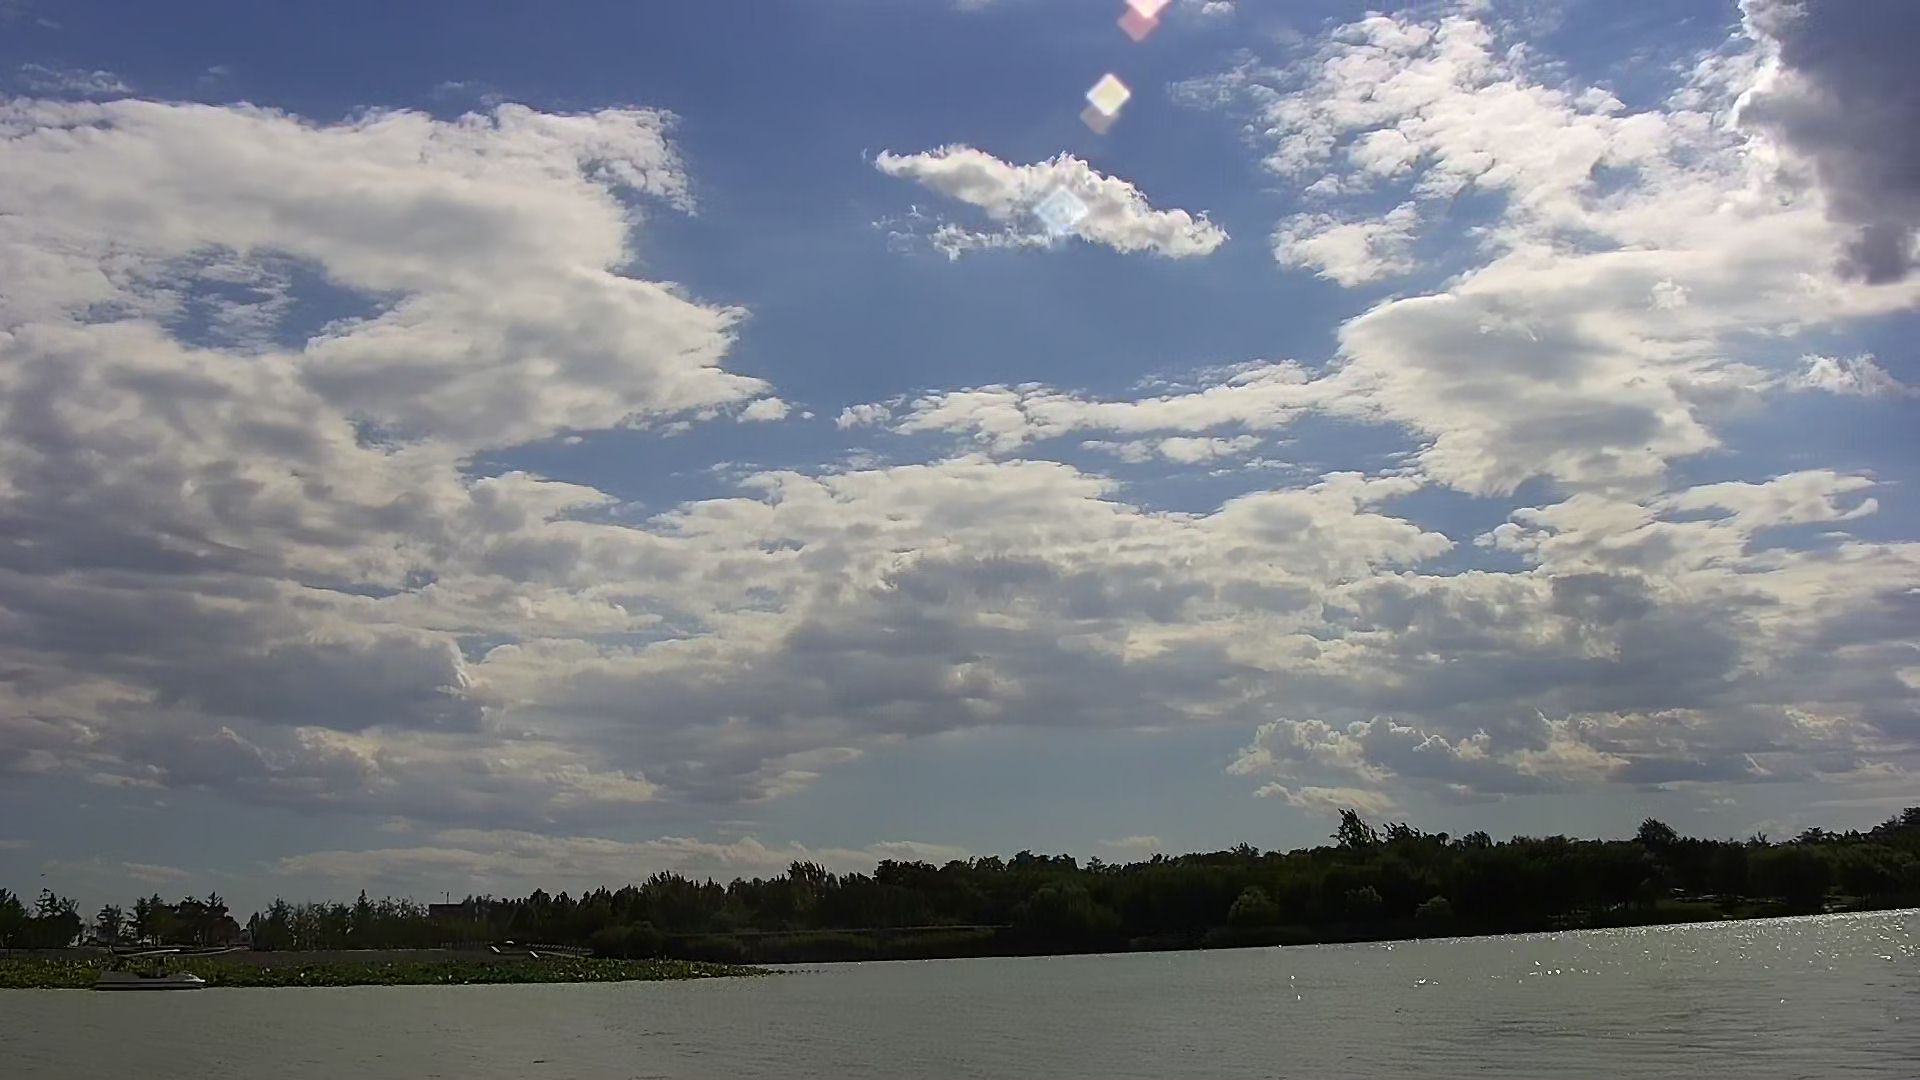boat: (94, 938, 211, 993)
